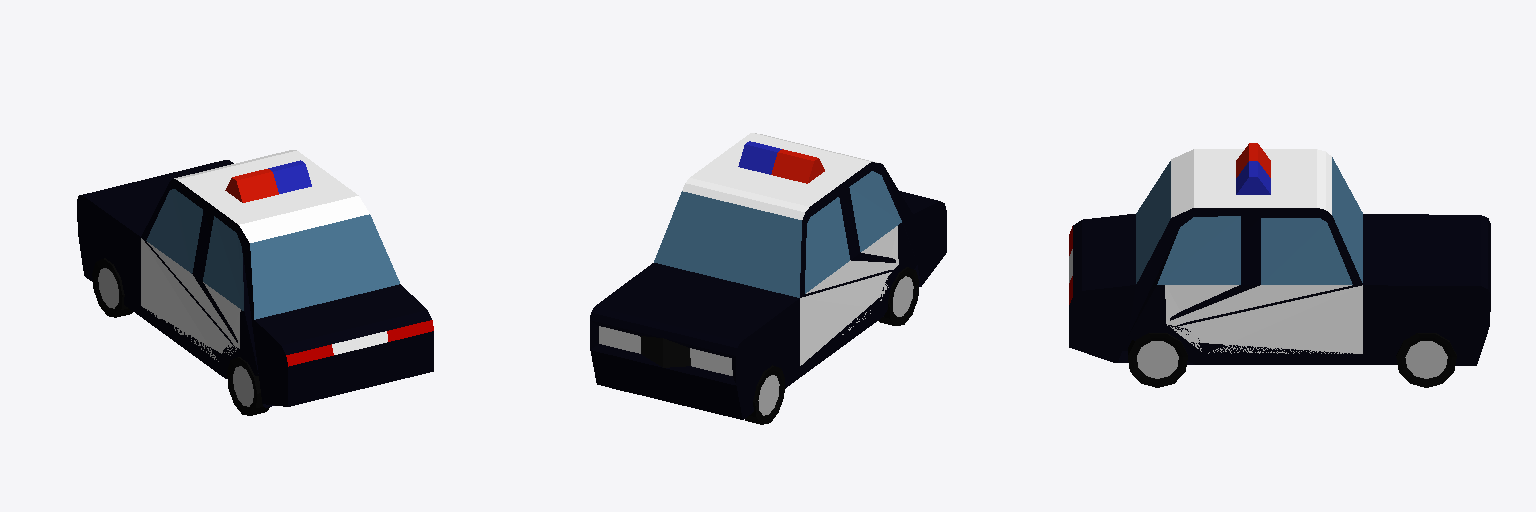
File: new_car2.obj
The picture shows the model from 3 angles: view 1: azimuth 30°, elevation 25°; view 2: azimuth 150°, elevation 25°; view 3: azimuth 270°, elevation 25°; orthographic projection.
Visible parts, largest first — view 1: car_police.008_Cube.7823, Cube.14569_Cube.7821, Cube.14571_Cube.7822, Cube.14570_Cube.7822; view 2: car_police.008_Cube.7823, Cube.14569_Cube.7821, Cube.14570_Cube.7822, Cube.14571_Cube.7822; view 3: car_police.008_Cube.7823, Cube.14573_Cube.7822, Cube.14572_Cube.7822, Cube.14569_Cube.7821.
Part boxes in pixels (bbox=[...]): car_police.008_Cube.7823: bbox=[77, 150, 433, 407]; Cube.14569_Cube.7821: bbox=[225, 160, 311, 202]; Cube.14571_Cube.7822: bbox=[227, 357, 269, 415]; Cube.14570_Cube.7822: bbox=[92, 258, 132, 317]; car_police.008_Cube.7823: bbox=[590, 133, 946, 419]; Cube.14569_Cube.7821: bbox=[738, 141, 824, 183]; Cube.14570_Cube.7822: bbox=[745, 365, 784, 424]; Cube.14571_Cube.7822: bbox=[878, 267, 919, 325]; car_police.008_Cube.7823: bbox=[1069, 149, 1490, 365]; Cube.14573_Cube.7822: bbox=[1128, 333, 1187, 387]; Cube.14572_Cube.7822: bbox=[1396, 333, 1456, 387]; Cube.14569_Cube.7821: bbox=[1236, 143, 1270, 194].
Bounding box in the file's own units: 0.0432 × 0.0522 × 0.1048.